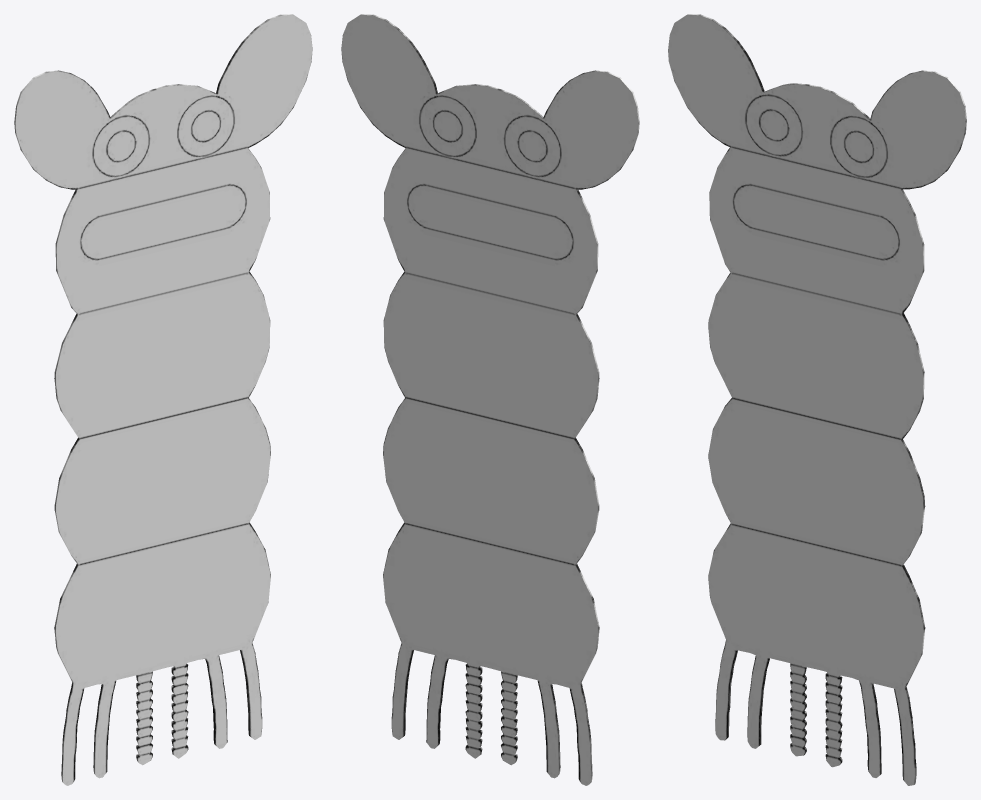
File: 18_yooful.fbx
3 views of the same model, side by side, from view 1: azimuth 30°, elevation 25°; view 2: azimuth 150°, elevation 25°; view 3: azimuth 330°, elevation 25° (orthographic).
Parts seen in each view (by area): view 1: planarTrimmedSurface24; view 2: planarTrimmedSurface24; view 3: planarTrimmedSurface24.
Boxes of the visible parts, x1,y1,x2,y2 form: planarTrimmedSurface24: [14, 14, 312, 785]; planarTrimmedSurface24: [341, 14, 639, 785]; planarTrimmedSurface24: [668, 14, 966, 785].
Bounding box in the file's own units: 21.83 × 50.41 × 0.1403.
Materials: 1 (1 with a texture image).
